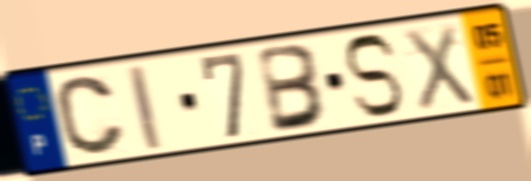7: (197, 51, 246, 141)
B: (255, 41, 330, 136)
C: (53, 73, 128, 158)
I: (124, 61, 165, 154)
S: (341, 31, 406, 121)
X: (400, 21, 478, 114)
